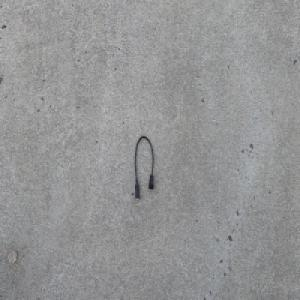Wire: (134, 134, 154, 201)
